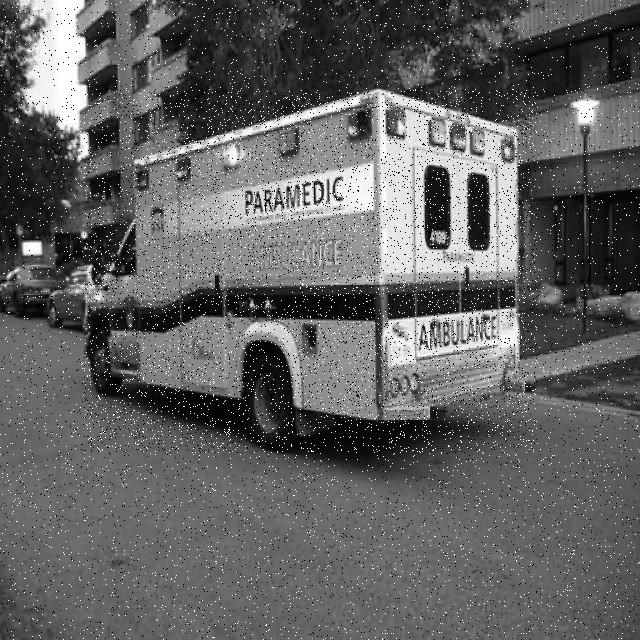Ambulance: (84, 90, 537, 453)
